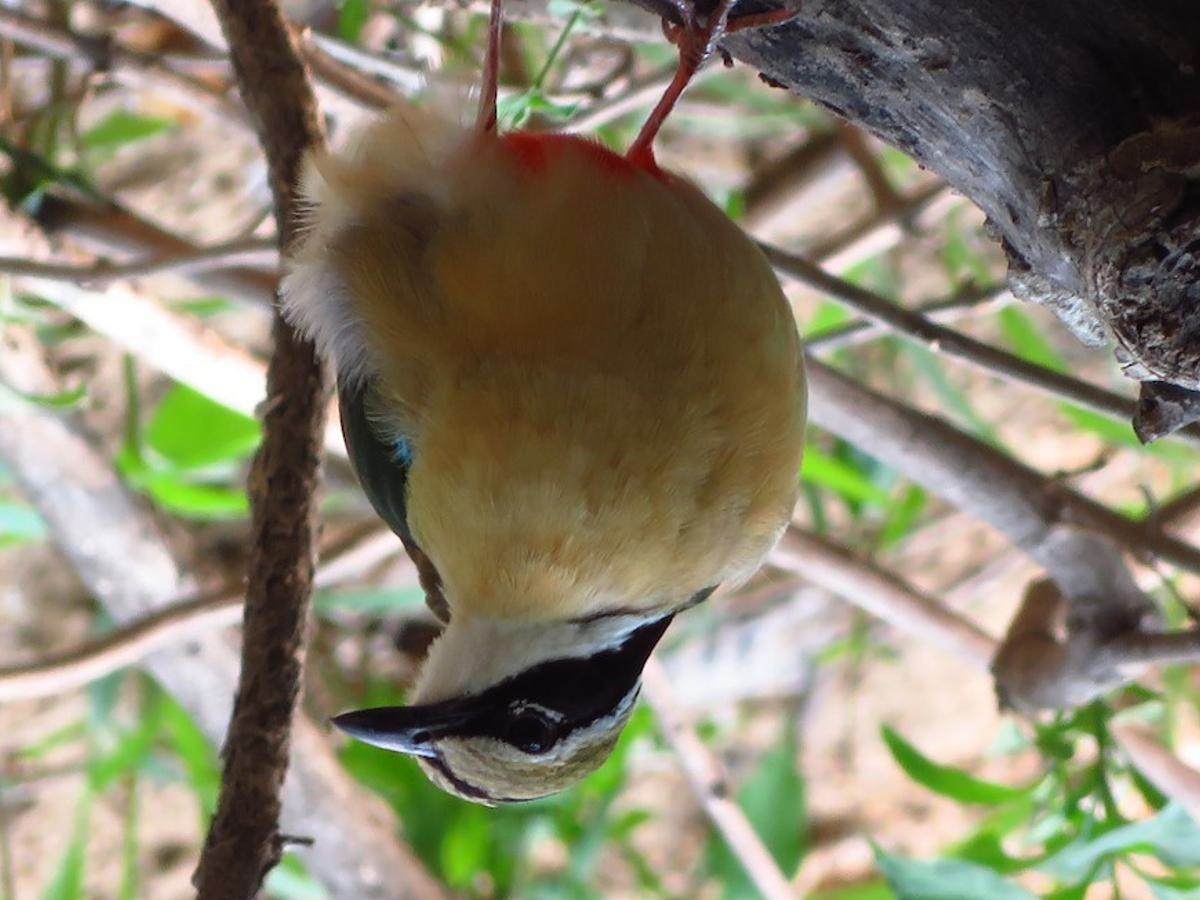pitta: (288, 75, 818, 813)
